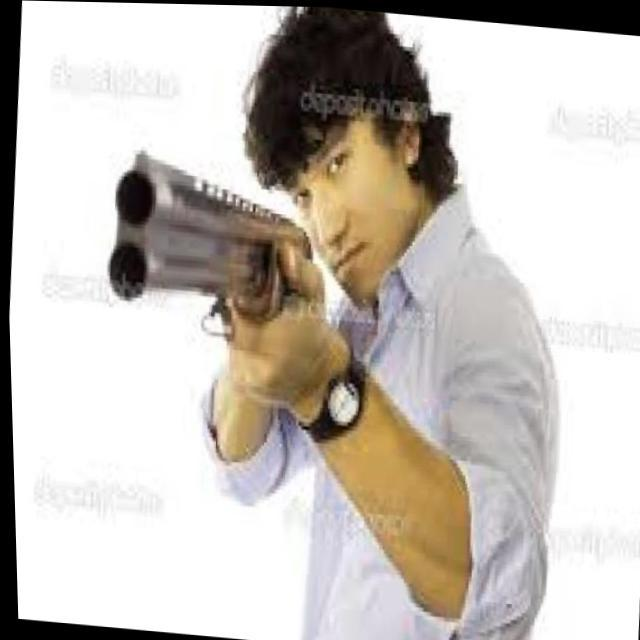weapon: (78, 143, 496, 622)
